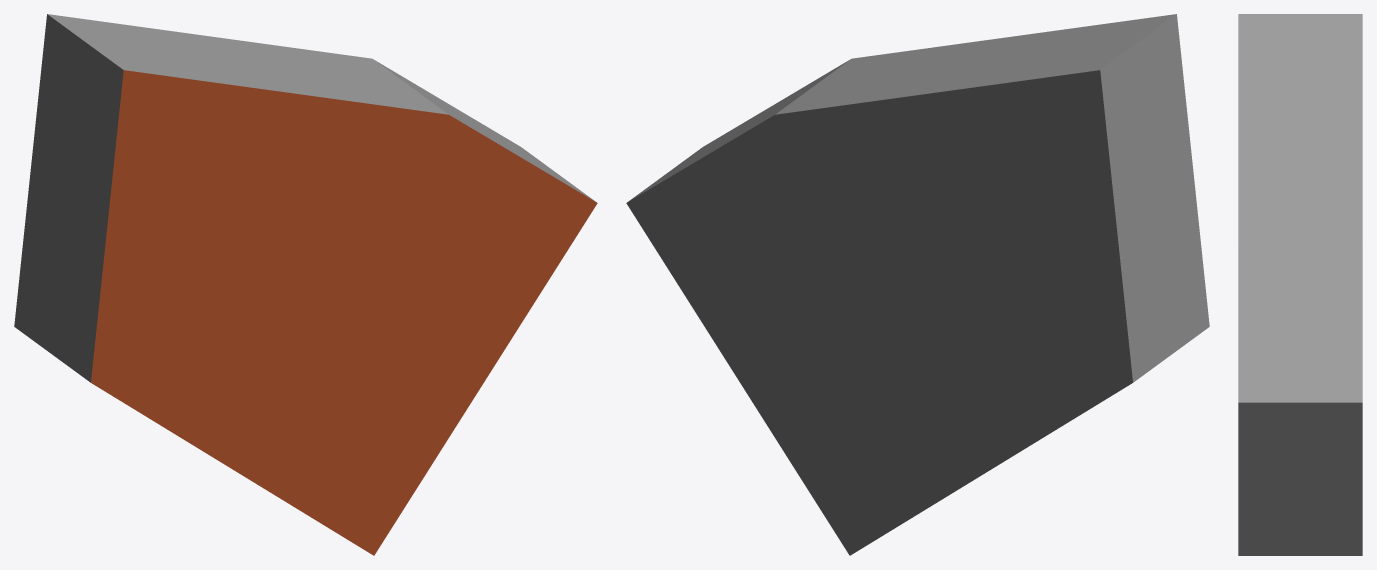
File: construction_1103_assumed_A_Casa_h6m.obj
3 views of the same model, side by side, from view 1: azimuth 30°, elevation 25°; view 2: azimuth 150°, elevation 25°; view 3: azimuth 270°, elevation 25° (orthographic). The views are drawn at different scales.
Visible parts, largest first — view 1: construction_1103_assumed_A_Casa; view 2: construction_1103_assumed_A_Casa; view 3: construction_1103_assumed_A_Casa.
Boxes of the visible parts, x1=… form: construction_1103_assumed_A_Casa: x1=14, y1=14, x2=597, y2=555; construction_1103_assumed_A_Casa: x1=626, y1=14, x2=1209, y2=555; construction_1103_assumed_A_Casa: x1=1238, y1=14, x2=1362, y2=555.
Size of the model in its own units: 22.91 by 23.62 by 6.
